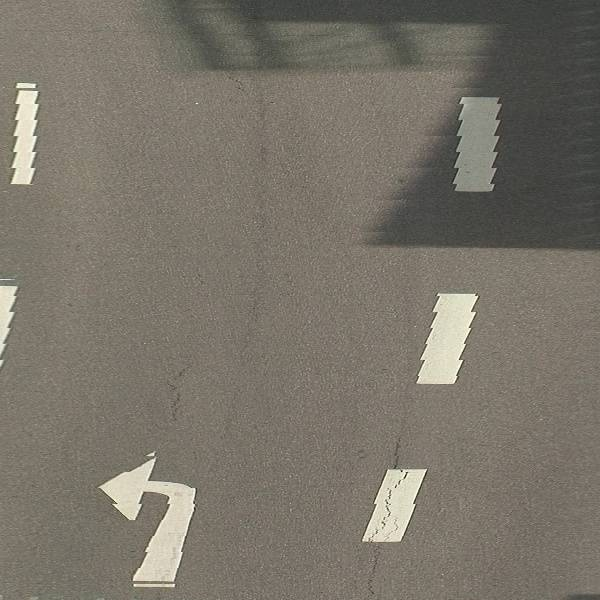road_damage: (358, 432, 410, 597), (165, 361, 195, 423)
